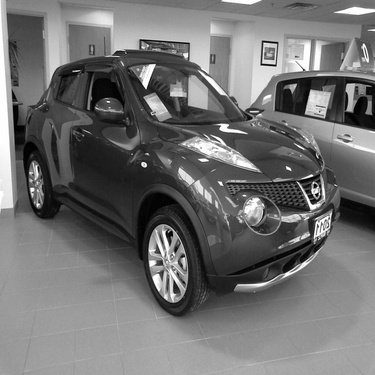car: (12, 44, 349, 321), (238, 70, 371, 220)
